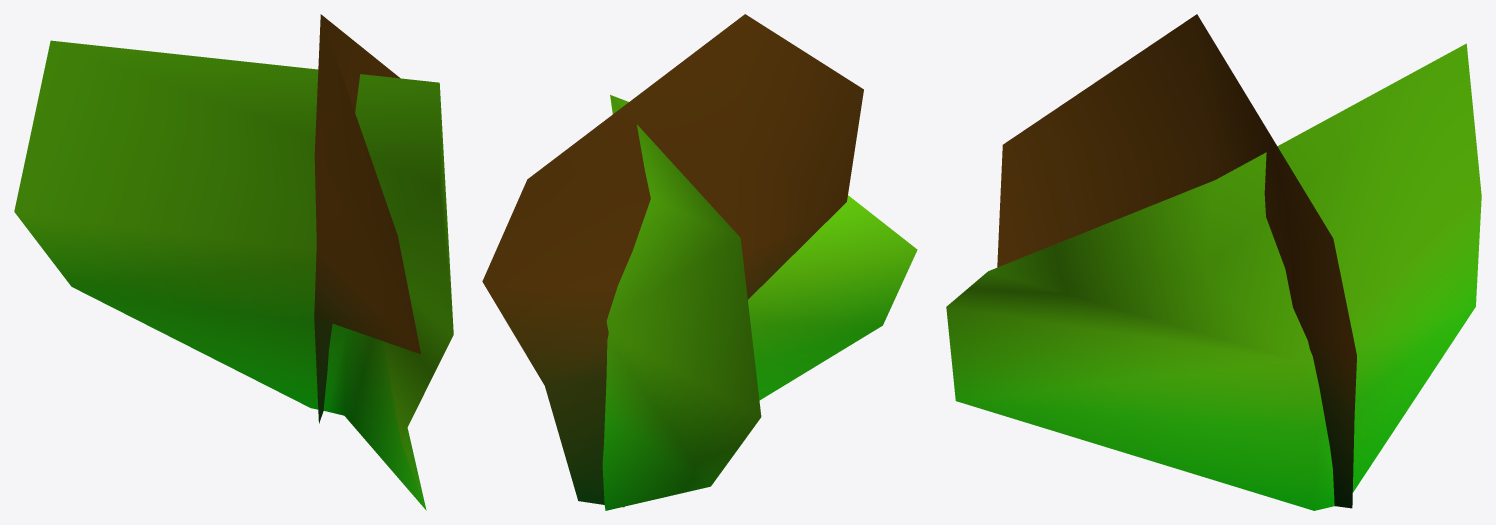
The model's file is Var1Hi16.fbx.
3 renders of one model, left to right at view 1: azimuth 30°, elevation 25°; view 2: azimuth 150°, elevation 25°; view 3: azimuth 270°, elevation 25°, orthographic.
Visible parts, largest first — view 1: bend1; view 2: bend1; view 3: bend1.
Boxes of the visible parts, x1,y1,x2,y2 form: bend1: [14, 14, 453, 510]; bend1: [482, 14, 917, 510]; bend1: [946, 14, 1481, 510].
Bounding box in the file's own units: 1.04 × 1.35 × 1.42.
